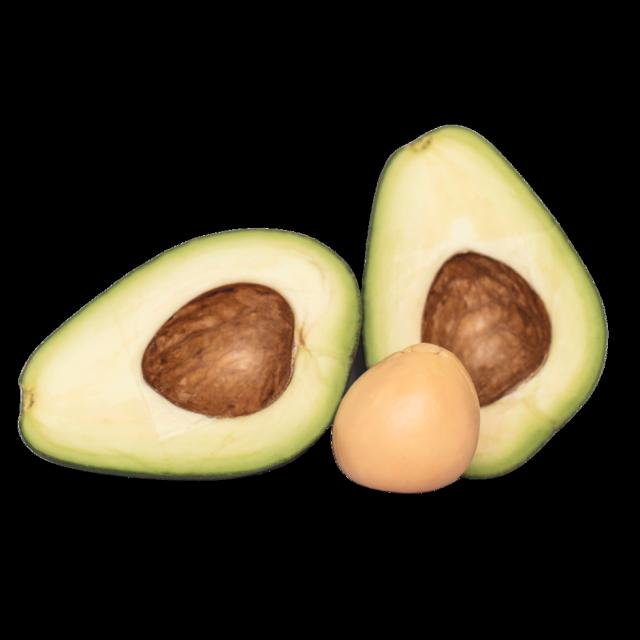aguacate: (19, 215, 360, 514)
